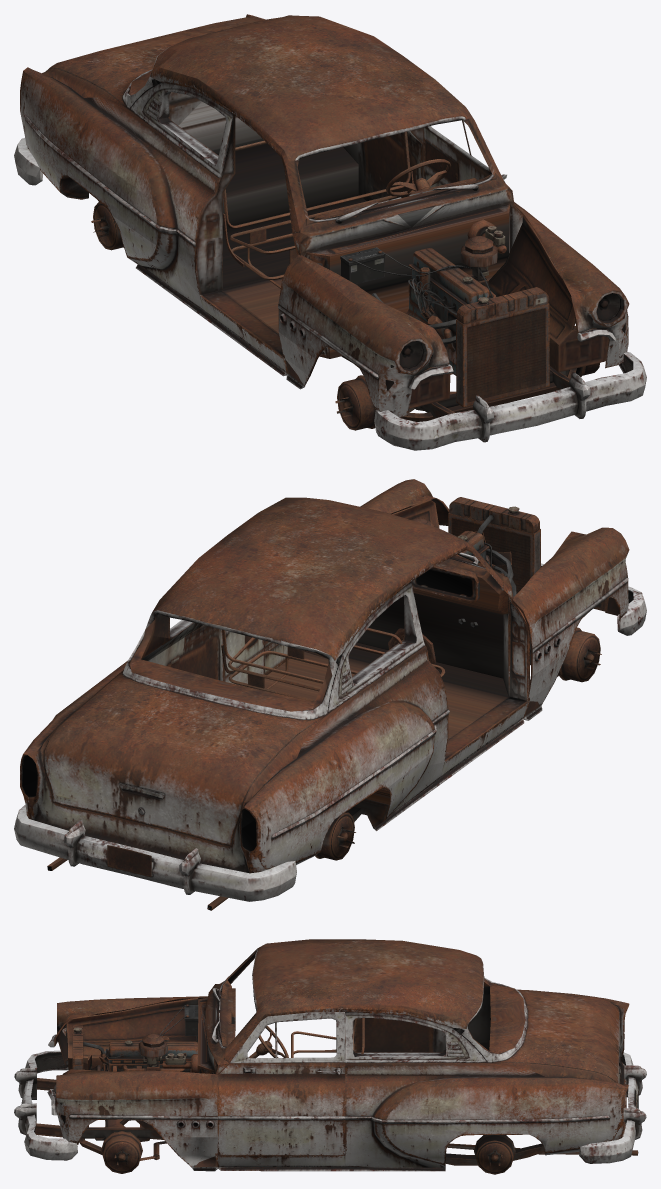
The model's file is OldCar4.fbx.
3 views of the same model, one above another, from view 1: azimuth 30°, elevation 25°; view 2: azimuth 150°, elevation 25°; view 3: azimuth 270°, elevation 25° (orthographic). The views are drawn at different scales.
Visible parts, largest first — view 1: LOW005_Material #112_0, LOW2_Material #108_0; view 2: LOW005_Material #112_0, LOW2_Material #108_0; view 3: LOW005_Material #112_0, LOW2_Material #108_0.
Boxes of the visible parts, x1=… form: LOW005_Material #112_0: x1=14, y1=14, x2=646, y2=450; LOW2_Material #108_0: x1=223, y1=131, x2=549, y2=407; LOW005_Material #112_0: x1=14, y1=479, x2=646, y2=910; LOW2_Material #108_0: x1=221, y1=497, x2=540, y2=701; LOW005_Material #112_0: x1=14, y1=939, x2=646, y2=1174; LOW2_Material #108_0: x1=72, y1=1004, x2=364, y2=1072.
Bounding box in the file's own units: 174 × 133 × 448.
Materials: 2 (2 with a texture image).
